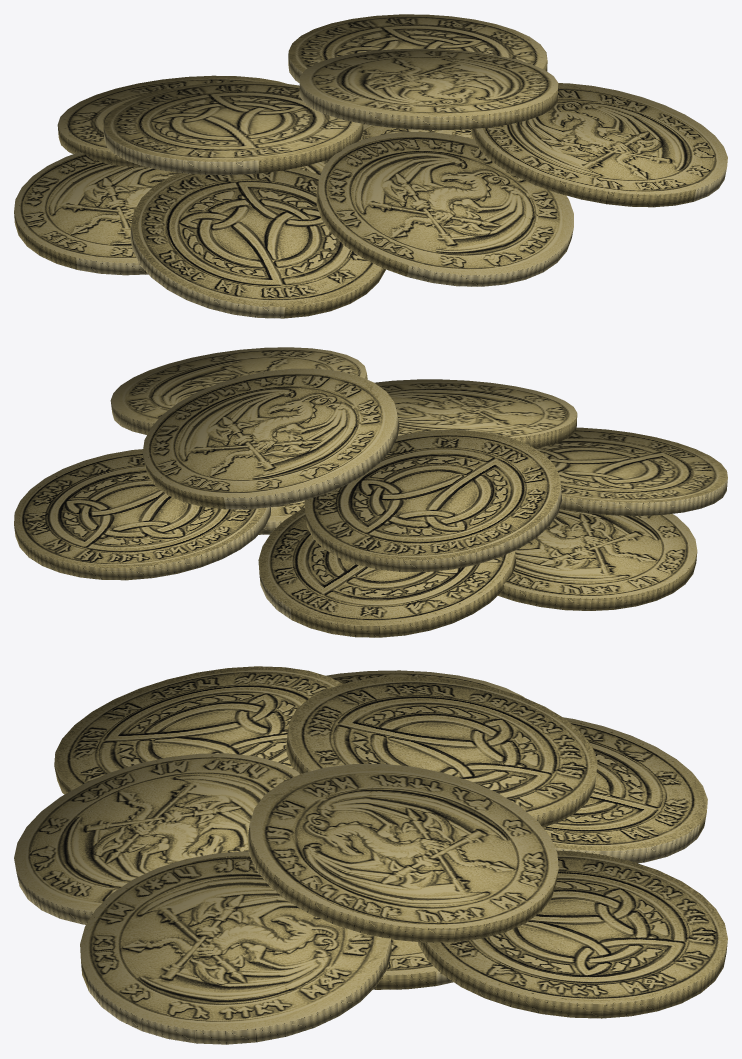
Rendered from LotsGoldCoins.fbx.
3 renders of one model, top to bottom at view 1: azimuth 30°, elevation 25°; view 2: azimuth 150°, elevation 25°; view 3: azimuth 270°, elevation 25°, orthographic. The views are drawn at different scales.
Visible parts, largest first — view 1: LotsGoldCoins; view 2: LotsGoldCoins; view 3: LotsGoldCoins.
Boxes of the visible parts, x1,y1,x2,y2 form: LotsGoldCoins: (14,14,727,318); LotsGoldCoins: (14,347,727,637); LotsGoldCoins: (14,666,727,1044).
Bounding box in the file's own units: 32.92 × 4.35 × 27.44.
